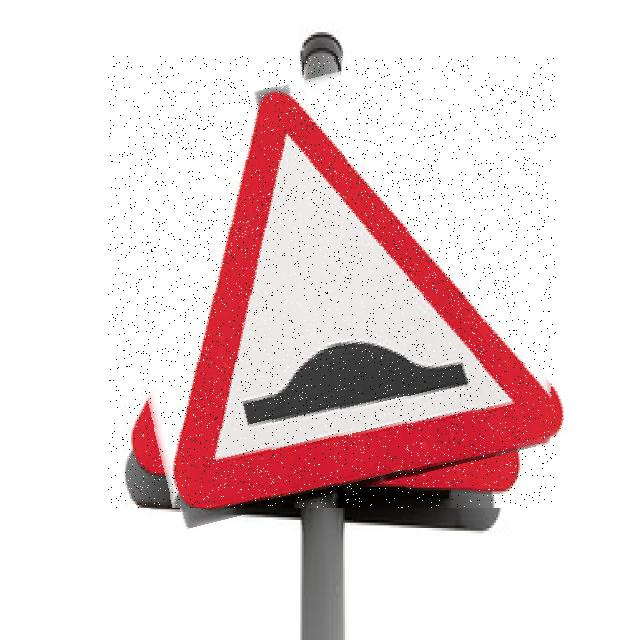hump: (108, 56, 556, 508)
